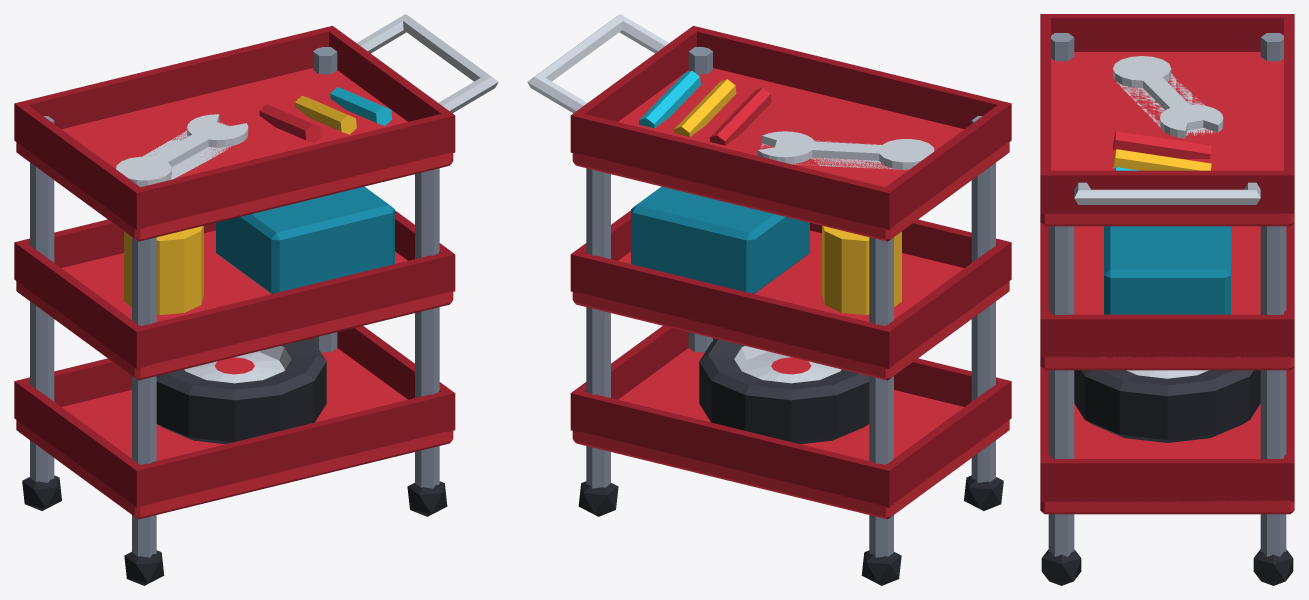
Rendered from ToolCart.fbx.
The picture shows the model from 3 angles, left to right: view 1: azimuth 30°, elevation 25°; view 2: azimuth 150°, elevation 25°; view 3: azimuth 270°, elevation 25°; orthographic projection. The views are drawn at different scales.
Parts seen in each view (by area): view 1: ToolCart; view 2: ToolCart; view 3: ToolCart.
Part boxes in pixels (box(x1,y1,x2,y2)): ToolCart: box(14, 14, 498, 585); ToolCart: box(527, 14, 1011, 585); ToolCart: box(1040, 14, 1294, 585).
Size of the model in its own units: 4.28 by 4.5 by 2.4.
1 material, 1 textured.
